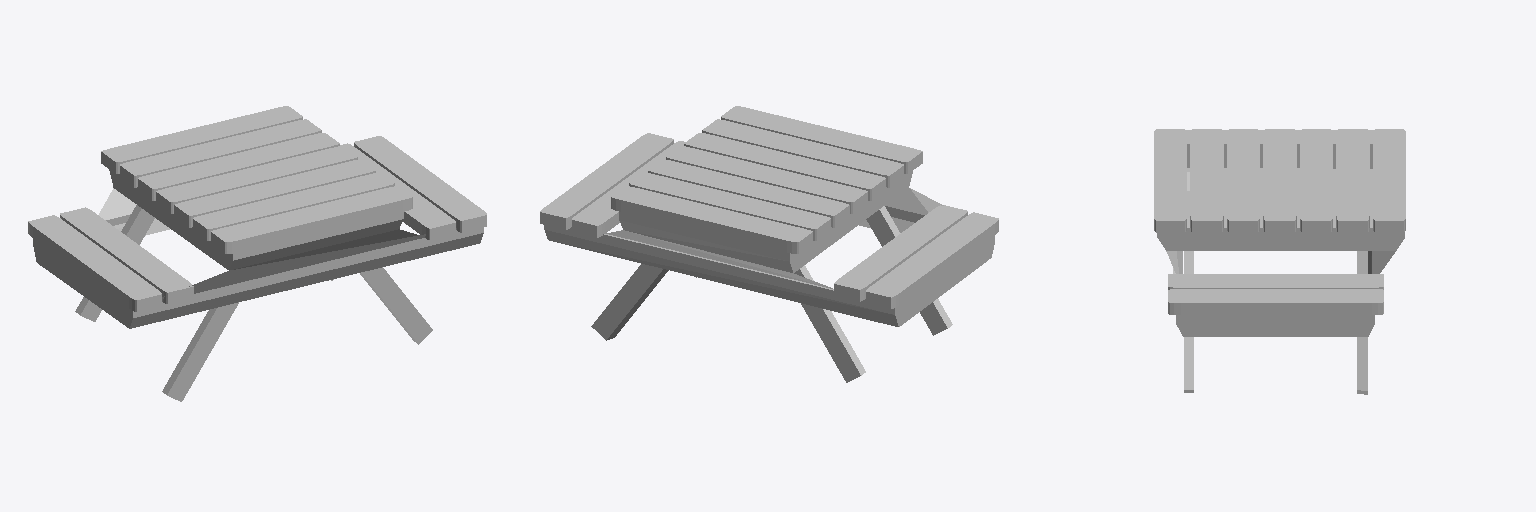
Rendered from PicnicTable.obj.
3 renders of one model, left to right at view 1: azimuth 30°, elevation 25°; view 2: azimuth 150°, elevation 25°; view 3: azimuth 270°, elevation 25°, orthographic.
Parts seen in each view (by area): view 1: Cube_Cube.001; view 2: Cube_Cube.001; view 3: Cube_Cube.001.
Part boxes in pixels (x1,y1,x2,y2): Cube_Cube.001: (28,106,486,401); Cube_Cube.001: (540,106,998,382); Cube_Cube.001: (1154,129,1405,394).
Size of the model in its own units: 1.82 by 0.7991 by 1.12.